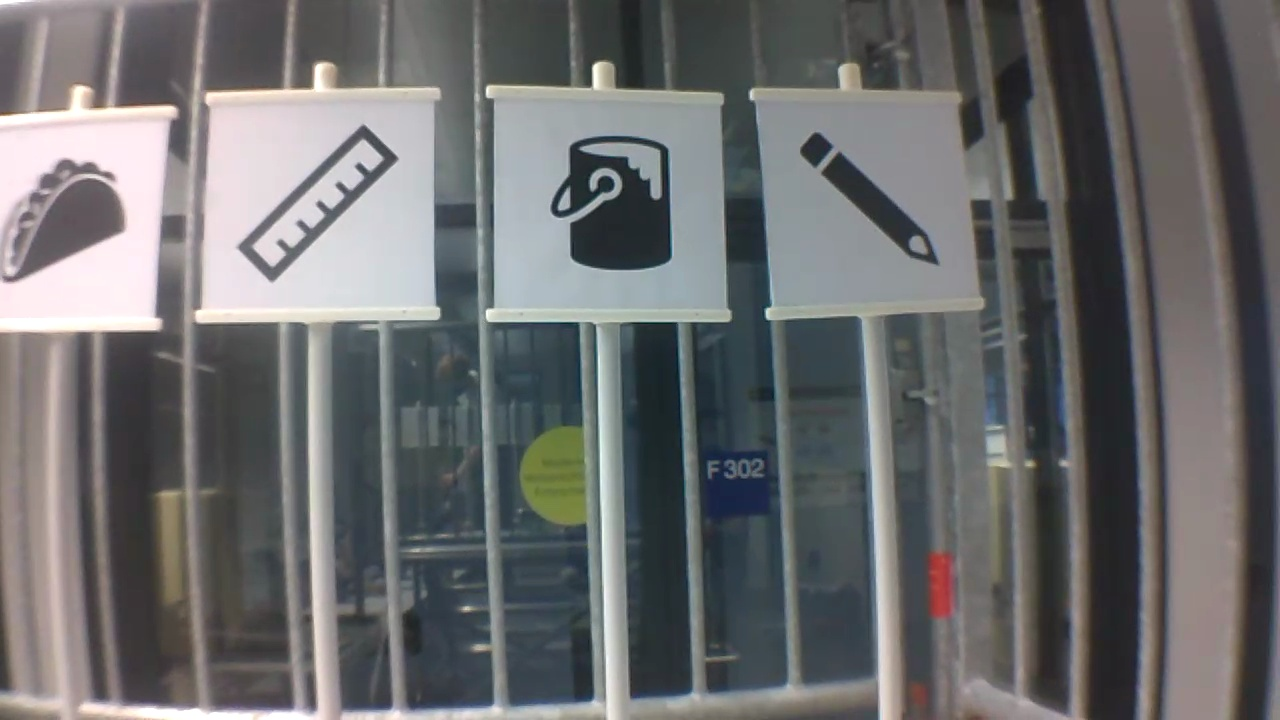bucket: (541, 132, 675, 275)
pencil: (793, 129, 943, 271)
ruler: (231, 118, 402, 288)
taco: (1, 148, 130, 287)
